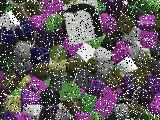Left: (63, 0, 104, 46)
